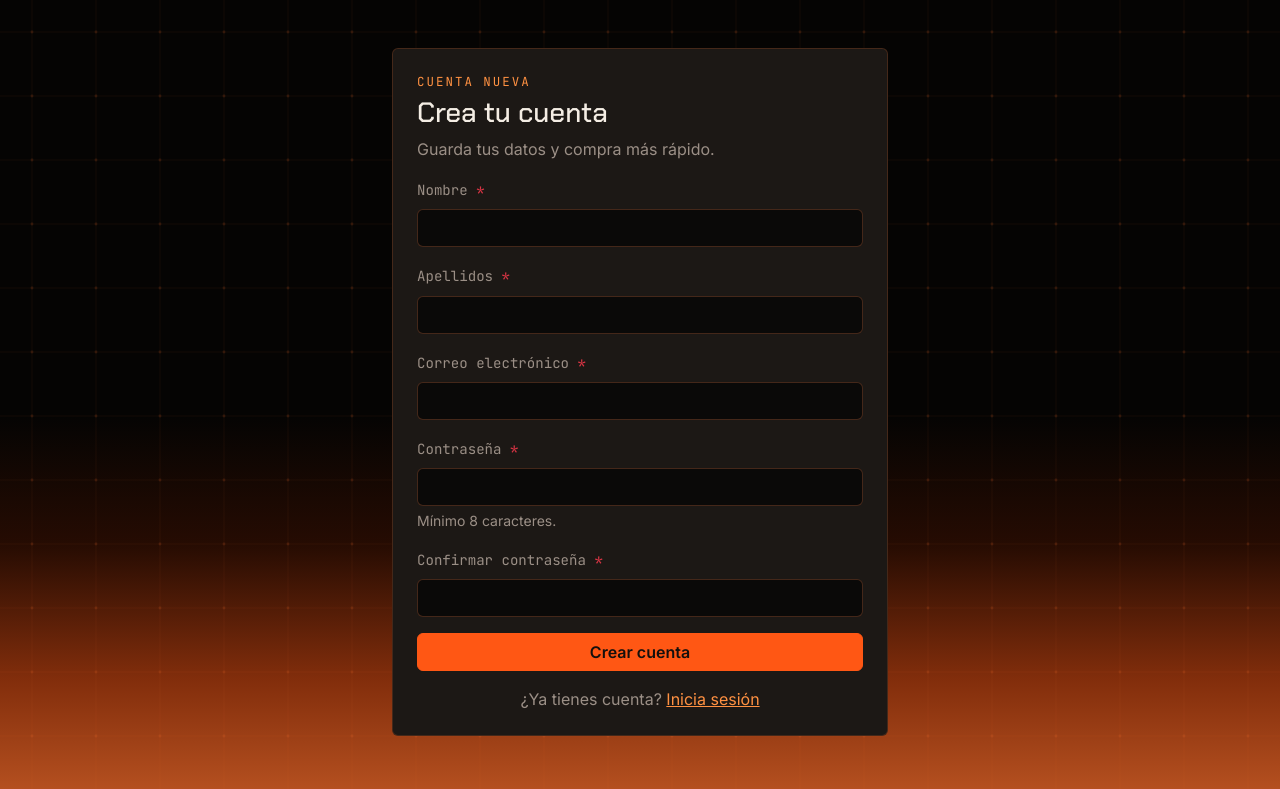
it: <Registro /> › muestra errores si se envía el formulario vacío y no crea el usuario
Click the button "Crear cuenta" at (640, 652), box [417,633,863,671]
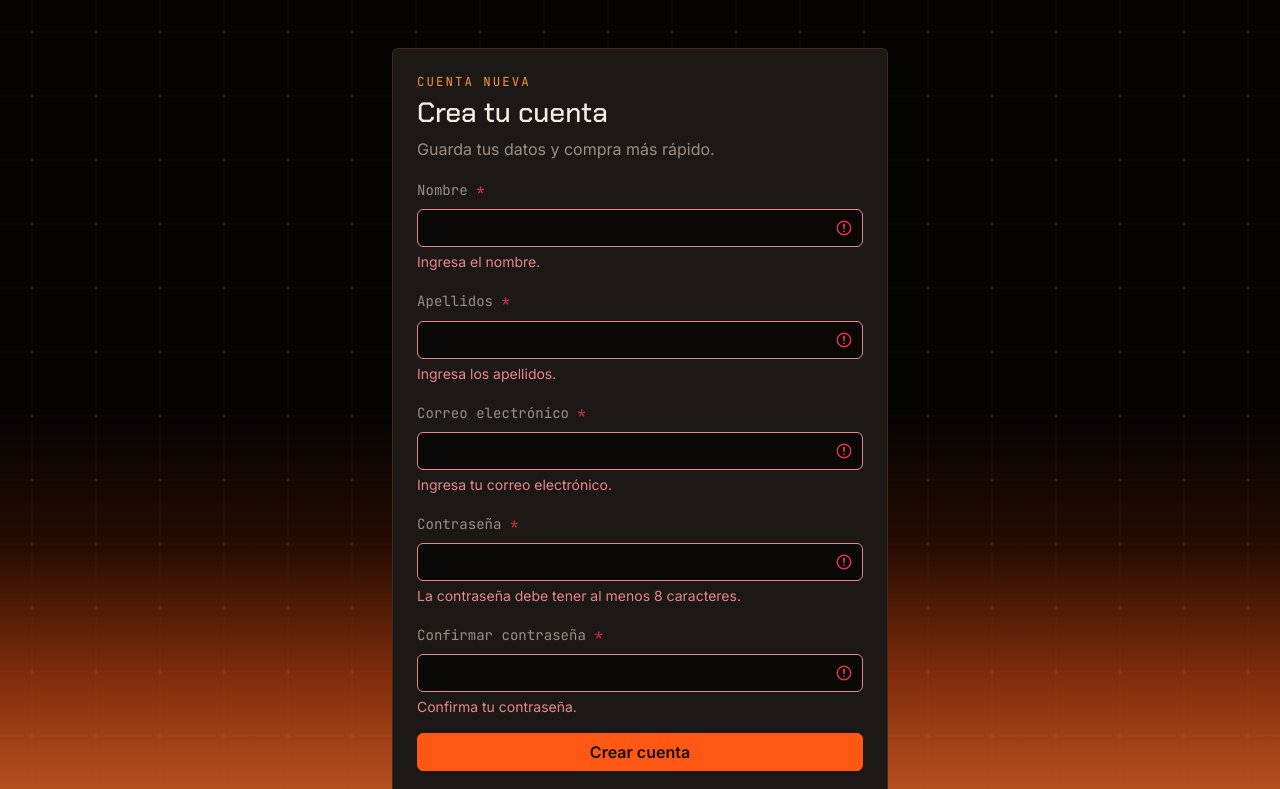
Result: the text "Ingresa el nombre." is shown at [417,253,540,270]
Result: the text "Ingresa tu correo electrónico." is shown at [417,476,612,493]
